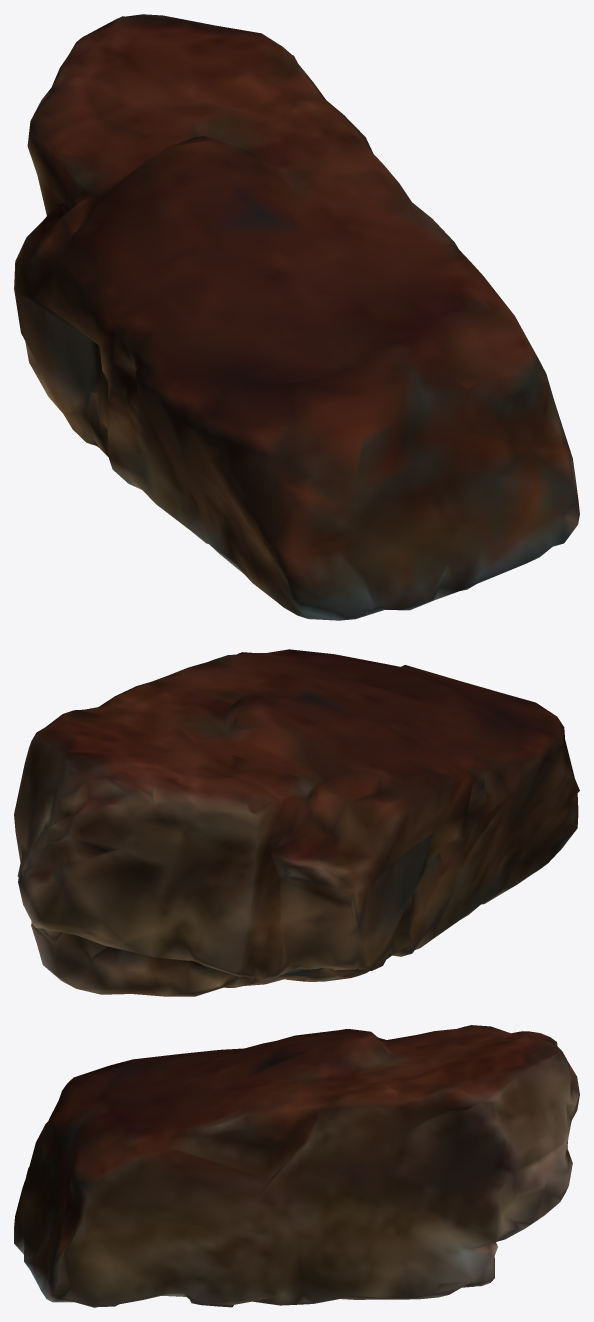
File: rock_07_lod2.glb
3 renders of one model, top to bottom at view 1: azimuth 30°, elevation 25°; view 2: azimuth 150°, elevation 25°; view 3: azimuth 270°, elevation 25°, orthographic. The views are drawn at different scales.
Visible parts, largest first — view 1: rock_07; view 2: rock_07; view 3: rock_07.
Part boxes in pixels (x1=…): rock_07: x1=14, y1=14, x2=579, y2=620; rock_07: x1=14, y1=649, x2=579, y2=996; rock_07: x1=14, y1=1025, x2=579, y2=1307.
Size of the model in its own units: 0.1681 by 0.1434 by 0.3198.
Materials: 1 (1 with a texture image).
